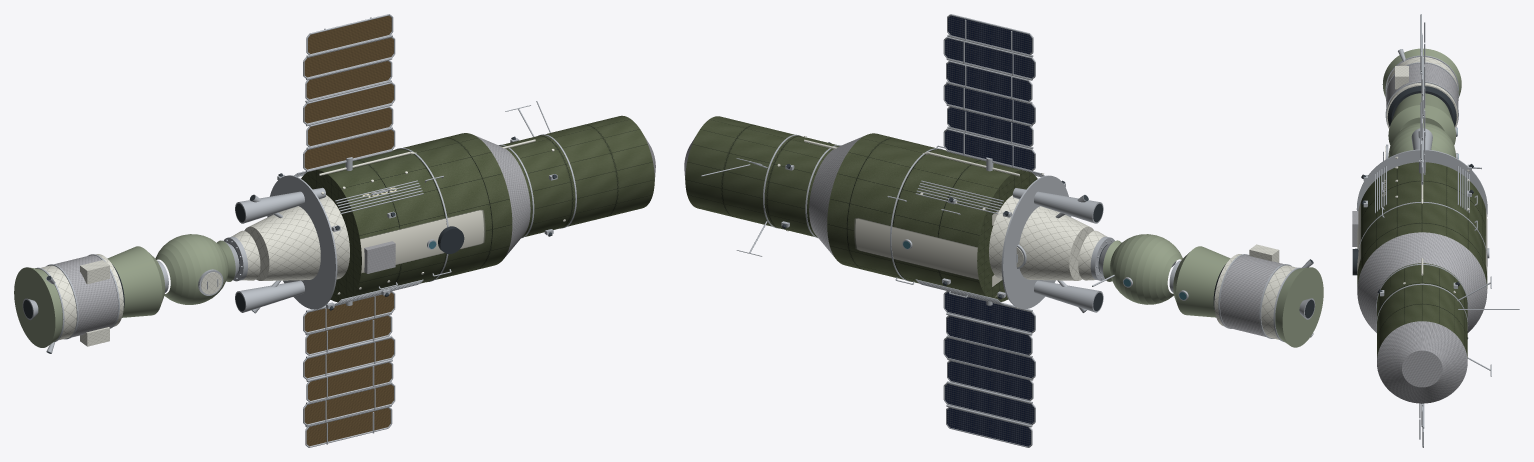
Rendered from salyut-5.glb.
3 views of the same model, side by side, from view 1: azimuth 30°, elevation 25°; view 2: azimuth 150°, elevation 25°; view 3: azimuth 270°, elevation 25° (orthographic). The views are drawn at different scales.
Parts seen in each view (by area): view 1: Main work compartment, Small living compartment, Aft spherical airlock approximation, Assembly seam, Atlas docked Soyuz aft ferry / Aft equipment skirt, Atlas docked Soyuz aft ferry / Descent capsule, Atlas docked Soyuz aft ferry / Service thermal blanket, Thruster outer bell (×2), Work living transition, Array 1 section 5 back, Array 1 section 3 back, Array 2 section 3 back (+12 smaller); view 2: Main work compartment, Small living compartment, Aft spherical airlock approximation, Atlas docked Soyuz aft ferry / Service thermal blanket, Assembly seam, Atlas docked Soyuz aft ferry / Aft equipment skirt, Atlas docked Soyuz aft ferry / Descent capsule, Thruster outer bell (×2), Work living transition, Array 2 section 3 cells, Array 2 section 5 cells, Array 1 section 5 cells (+11 smaller); view 3: Main work compartment, Front equipment cap, Work living transition, Small living compartment, Assembly seam (×4), Atlas docked Soyuz aft ferry / Descent capsule shoulder, Atlas docked Soyuz aft ferry / Service thermal blanket, Atlas docked Soyuz aft ferry / Orbital module blanket (×4), Atlas docked Soyuz aft ferry / Descent heat shield rim, Atlas docked Soyuz aft ferry / Service section, Atlas docked Soyuz aft ferry / Aft equipment skirt, Atlas docked Soyuz aft ferry / Descent capsule (+4 smaller).
Boxes of the visible parts, left/top/right/bottom form: Main work compartment: left=301, top=133, right=512, bottom=302; Small living compartment: left=500, top=115, right=654, bottom=237; Aft spherical airlock approximation: left=244, top=195, right=349, bottom=280; Assembly seam: left=267, top=175, right=337, bottom=309; Atlas docked Soyuz aft ferry / Aft equipment skirt: left=14, top=267, right=62, bottom=347; Atlas docked Soyuz aft ferry / Descent capsule: left=107, top=246, right=162, bottom=317; Atlas docked Soyuz aft ferry / Service thermal blanket: left=54, top=255, right=118, bottom=337; Thruster outer bell (×2): left=235, top=187, right=325, bottom=312; Work living transition: left=474, top=135, right=530, bottom=256; Array 1 section 5 back: left=304, top=37, right=393, bottom=77; Array 1 section 3 back: left=304, top=84, right=393, bottom=123; Array 2 section 3 back: left=304, top=338, right=393, bottom=378; Main work compartment: left=827, top=133, right=1037, bottom=301; Small living compartment: left=685, top=116, right=839, bottom=237; Aft spherical airlock approximation: left=989, top=195, right=1094, bottom=280; Atlas docked Soyuz aft ferry / Service thermal blanket: left=1220, top=255, right=1283, bottom=336; Assembly seam: left=1001, top=175, right=1071, bottom=309; Atlas docked Soyuz aft ferry / Aft equipment skirt: left=1275, top=267, right=1323, bottom=347; Atlas docked Soyuz aft ferry / Descent capsule: left=1176, top=246, right=1230, bottom=317; Thruster outer bell (×2): left=1012, top=188, right=1103, bottom=312; Work living transition: left=809, top=136, right=863, bottom=256; Array 2 section 3 cells: left=945, top=338, right=1034, bottom=377; Array 2 section 5 cells: left=945, top=384, right=1034, bottom=423; Array 1 section 5 cells: left=945, top=38, right=1034, bottom=78; Main work compartment: left=1357, top=162, right=1487, bottom=288; Front equipment cap: left=1377, top=321, right=1467, bottom=403; Work living transition: left=1357, top=232, right=1487, bottom=332; Small living compartment: left=1377, top=263, right=1467, bottom=357; Assembly seam (×4): left=1356, top=149, right=1487, bottom=330; Atlas docked Soyuz aft ferry / Descent capsule shoulder: left=1388, top=105, right=1455, bottom=145; Atlas docked Soyuz aft ferry / Service thermal blanket: left=1386, top=63, right=1458, bottom=107; Atlas docked Soyuz aft ferry / Orbital module blanket (×4): left=1388, top=126, right=1455, bottom=157; Atlas docked Soyuz aft ferry / Descent heat shield rim: left=1388, top=86, right=1456, bottom=126; Atlas docked Soyuz aft ferry / Service section: left=1386, top=57, right=1457, bottom=128; Atlas docked Soyuz aft ferry / Aft equipment skirt: left=1382, top=48, right=1461, bottom=97; Atlas docked Soyuz aft ferry / Descent capsule: left=1391, top=93, right=1453, bottom=123.
Bounding box in the file's own units: 149 × 95.9 × 36.59.
Materials: 10 (6 with a texture image).
